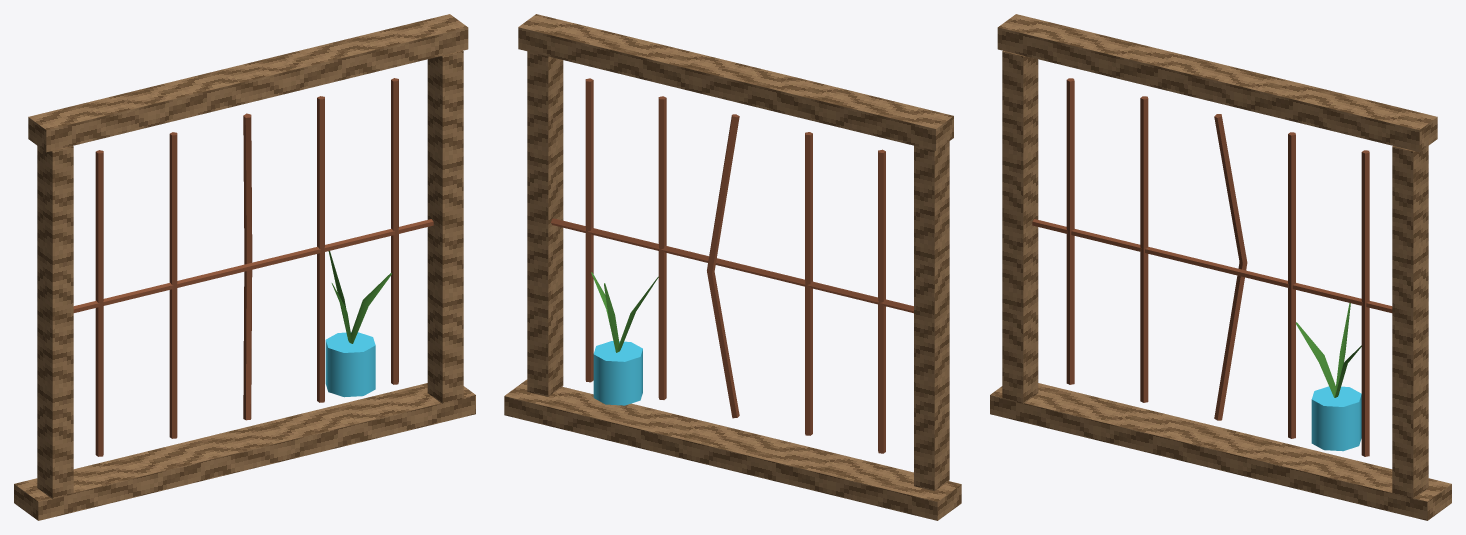
File: s_cube_window_a.glb
3 views of the same model, side by side, from view 1: azimuth 30°, elevation 25°; view 2: azimuth 150°, elevation 25°; view 3: azimuth 330°, elevation 25° (orthographic).
Parts seen in each view (by area): view 1: s_cube_window_a_mesh; view 2: s_cube_window_a_mesh; view 3: s_cube_window_a_mesh.
Boxes of the visible parts, x1,y1,x2,y2 form: s_cube_window_a_mesh: [14, 14, 475, 520]; s_cube_window_a_mesh: [504, 14, 961, 520]; s_cube_window_a_mesh: [990, 14, 1451, 520].
Size of what is drawn, in the model's own units: 1.66 by 1.41 by 0.2429.
Materials: 1 (1 with a texture image).
